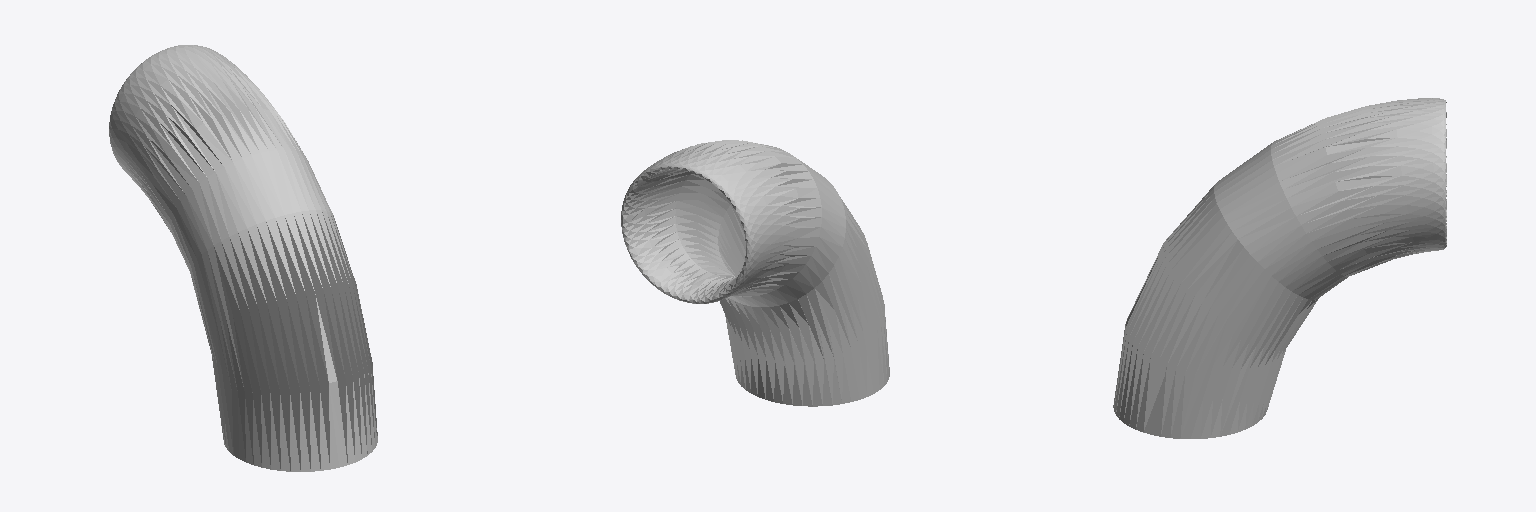
File: Model_PipeCurve_902.obj
3 views of the same model, side by side, from view 1: azimuth 30°, elevation 25°; view 2: azimuth 150°, elevation 25°; view 3: azimuth 270°, elevation 25° (orthographic).
Visible parts, largest first — view 1: Model_PipeCurve_902; view 2: Model_PipeCurve_902; view 3: Model_PipeCurve_902.
Part boxes in pixels (bbox=[...]): Model_PipeCurve_902: bbox=[109, 45, 377, 471]; Model_PipeCurve_902: bbox=[621, 140, 889, 406]; Model_PipeCurve_902: bbox=[1113, 98, 1446, 438].
Size of the model in its own units: 1.91 by 4.11 by 4.12.